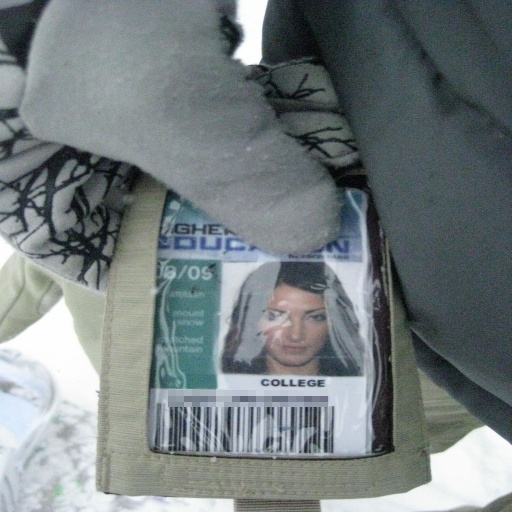hand: (0, 0, 339, 294)
